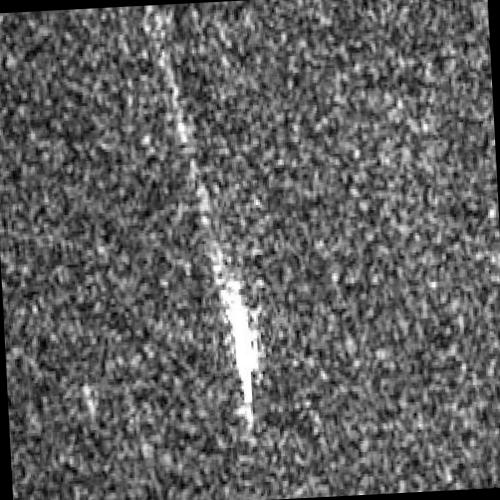ship: (219, 278, 260, 385)
